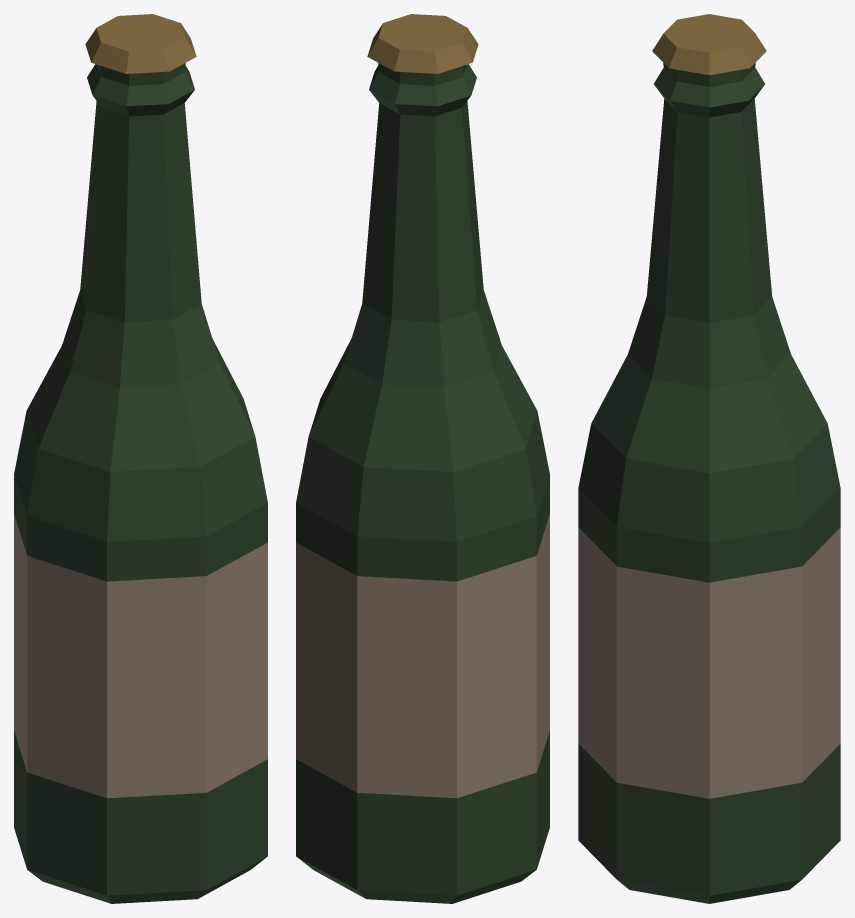
Rendered from Bottle1.glb.
3 renders of one model, left to right at view 1: azimuth 30°, elevation 25°; view 2: azimuth 150°, elevation 25°; view 3: azimuth 270°, elevation 25°, orthographic.
Visible parts, largest first — view 1: Bottle1; view 2: Bottle1; view 3: Bottle1.
Part boxes in pixels (x1,y1,x2,y2): Bottle1: (14,14,267,903); Bottle1: (296,14,549,903); Bottle1: (578,14,840,903).
Bounding box in the file's own units: 0.4517 × 1.56 × 0.4517.
